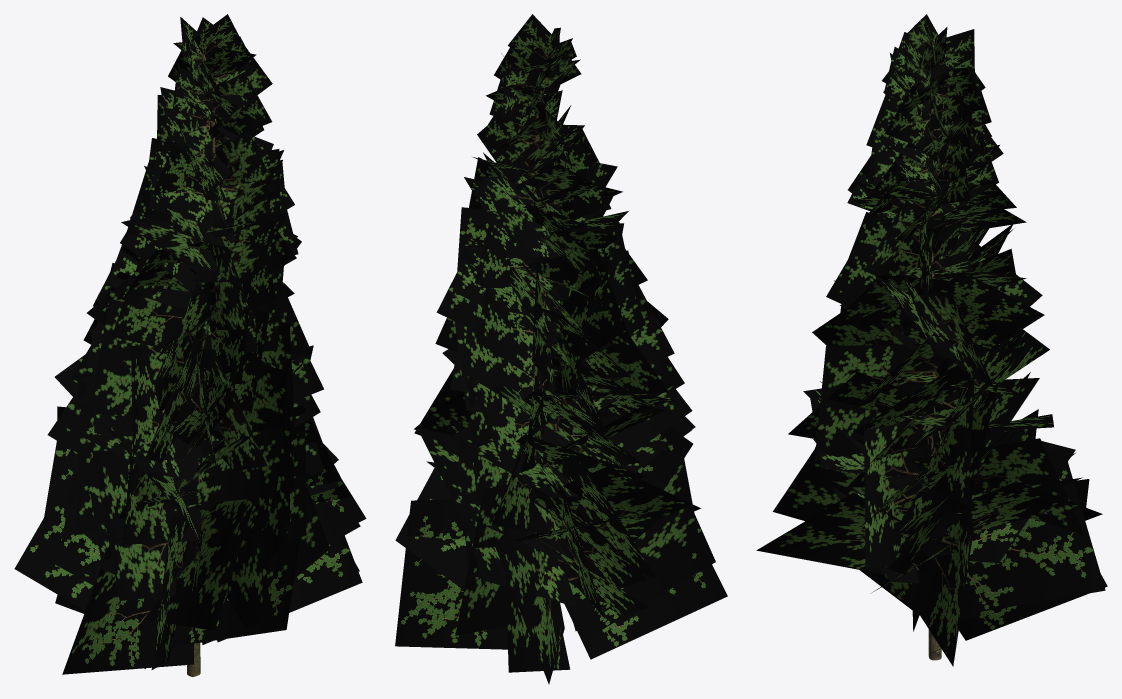
The picture shows the model from 3 angles, left to right: view 1: azimuth 30°, elevation 25°; view 2: azimuth 150°, elevation 25°; view 3: azimuth 270°, elevation 25°; orthographic projection. The views are drawn at different scales.
Visible parts, largest first — view 1: c; view 2: c; view 3: c.
Part boxes in pixels (box(x1,y1,x2,y2)): c: box(14, 14, 366, 676); c: box(395, 14, 727, 684); c: box(756, 14, 1107, 666).
Bounding box in the file's own units: 3.31 × 7 × 3.45.
Materials: 2 (2 with a texture image).
